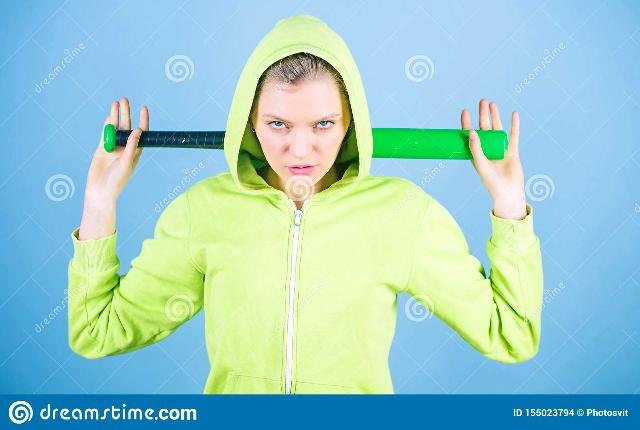baseball bat: (103, 125, 509, 167)
